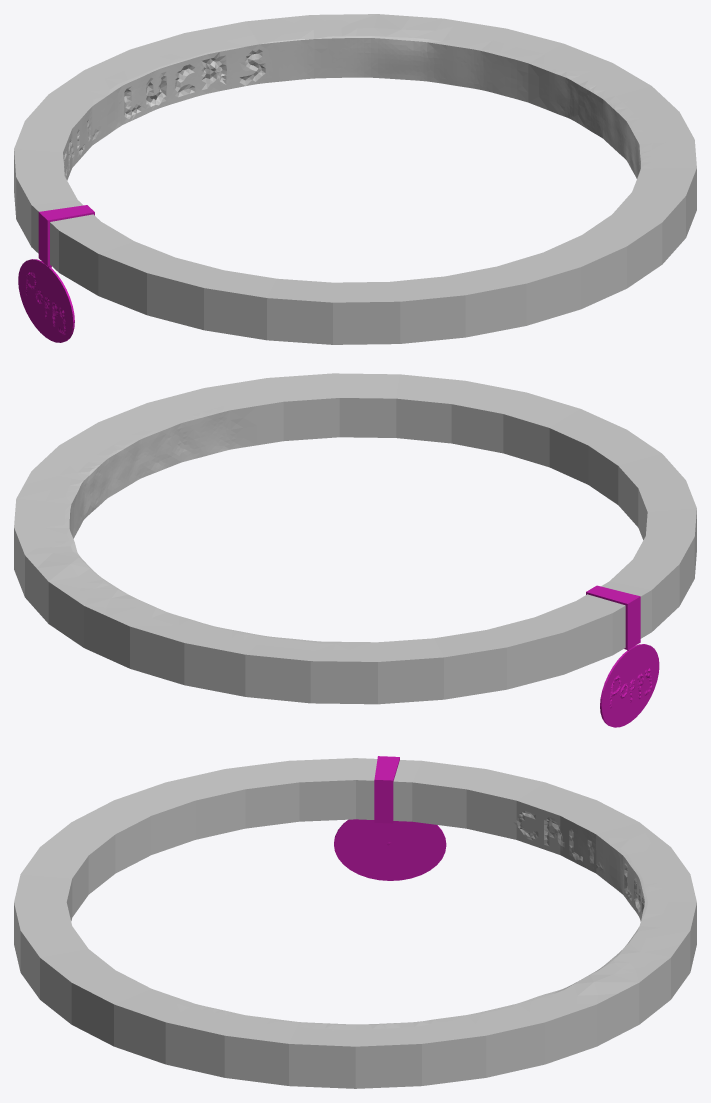
Rendered from collarColoured2.fbx.
3 renders of one model, top to bottom at view 1: azimuth 30°, elevation 25°; view 2: azimuth 150°, elevation 25°; view 3: azimuth 270°, elevation 25°, orthographic.
Parts seen in each view (by area): view 1: Cylinder (×2), Cylinder.001; view 2: Cylinder (×2), Cylinder.001; view 3: Cylinder (×2), Cylinder.001.
Boxes of the visible parts, x1=… form: Cylinder (×2): x1=14, y1=14, x2=696, y2=344; Cylinder.001: x1=18, y1=259, x2=74, y2=342; Cylinder (×2): x1=14, y1=373, x2=696, y2=704; Cylinder.001: x1=600, y1=644, x2=659, y2=727; Cylinder (×2): x1=14, y1=756, x2=696, y2=1088; Cylinder.001: x1=334, y1=819, x2=446, y2=880.
Size of the model in its own units: 44 by 8.68 by 44.
